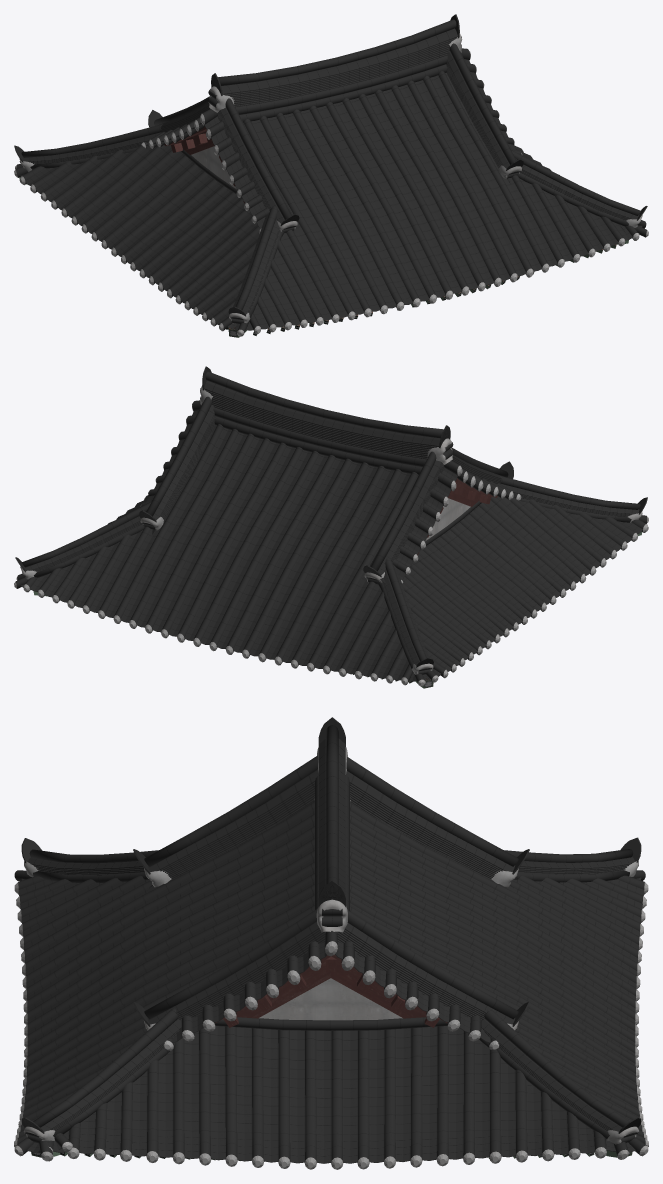
Rendered from SM_Sun_Kak_Roof.fbx.
3 renders of one model, top to bottom at view 1: azimuth 30°, elevation 25°; view 2: azimuth 150°, elevation 25°; view 3: azimuth 270°, elevation 25°, orthographic. The views are drawn at different scales.
Parts seen in each view (by area): view 1: SM_Sun_Kak_Roof; view 2: SM_Sun_Kak_Roof; view 3: SM_Sun_Kak_Roof.
Boxes of the visible parts, x1,y1,x2,y2 form: SM_Sun_Kak_Roof: [14, 14, 648, 337]; SM_Sun_Kak_Roof: [14, 366, 648, 688]; SM_Sun_Kak_Roof: [14, 717, 648, 1169].
Size of the model in its own units: 899 by 368 by 833.
